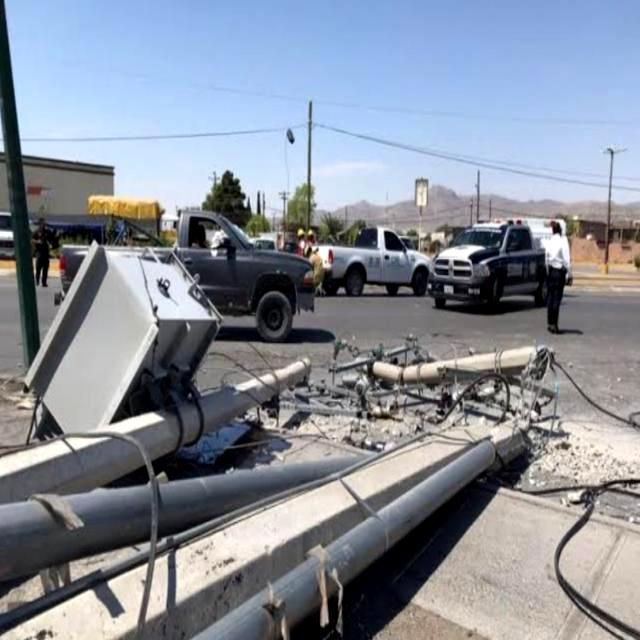Broken Pole: (0, 241, 562, 640)
